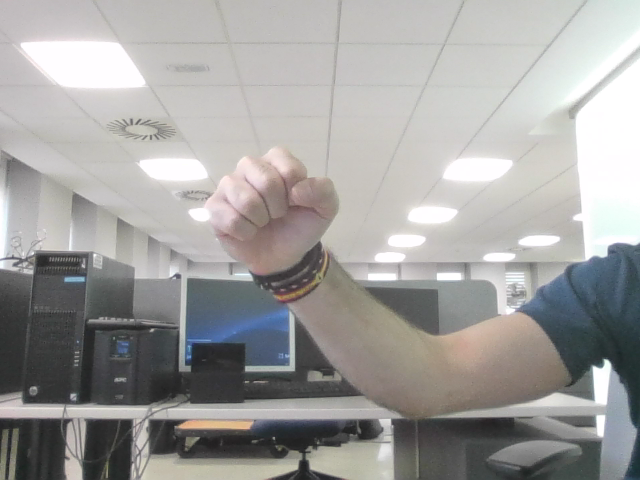Puño: (215, 159, 322, 235)
